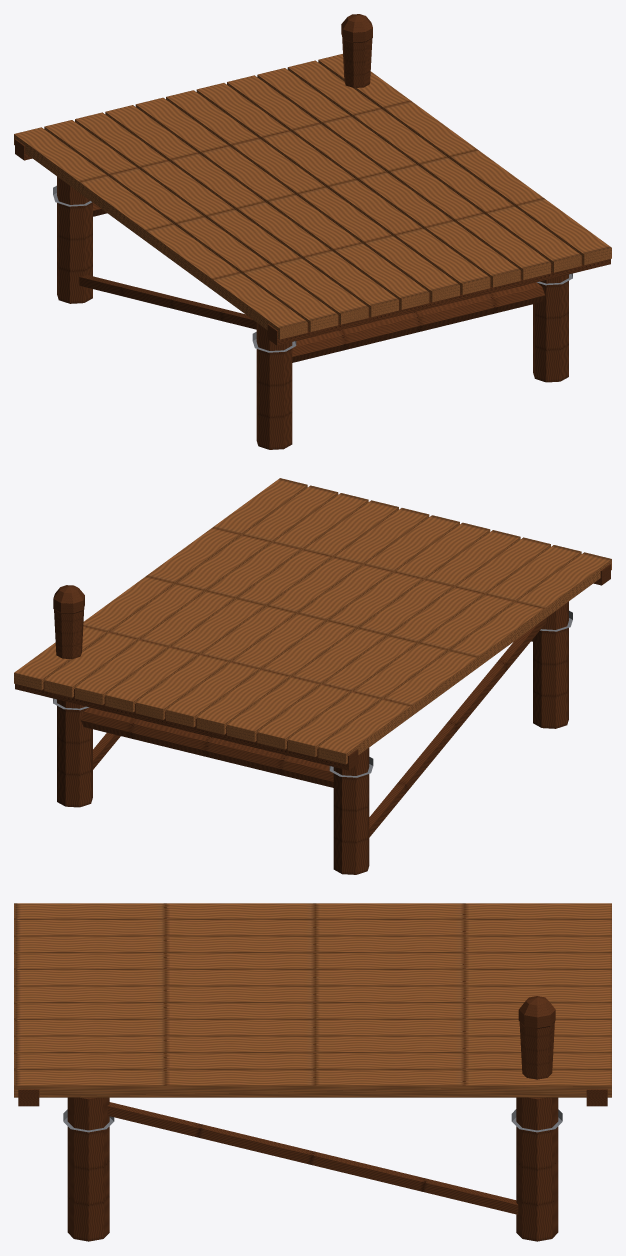
Rendered from pirate-port-and-tall-ships-timber-jetty-section-1d1ed028__30137.glb.
The picture shows the model from 3 angles, top to bottom: view 1: azimuth 30°, elevation 25°; view 2: azimuth 150°, elevation 25°; view 3: azimuth 270°, elevation 25°; orthographic projection. The views are drawn at different scales.
Visible parts, largest first — view 1: timber-jetty-section; view 2: timber-jetty-section; view 3: timber-jetty-section.
Part boxes in pixels (x1,y1,x2,y2): timber-jetty-section: (14, 14, 611, 449); timber-jetty-section: (14, 478, 611, 874); timber-jetty-section: (14, 903, 611, 1241).
Bounding box in the file's own units: 2.9 × 1.76 × 4.
3 materials, 2 textured.
